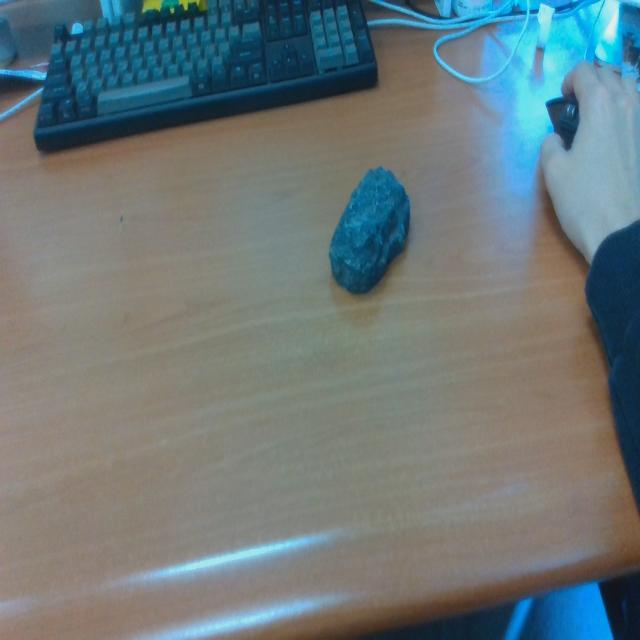stone: (329, 165, 412, 297)
